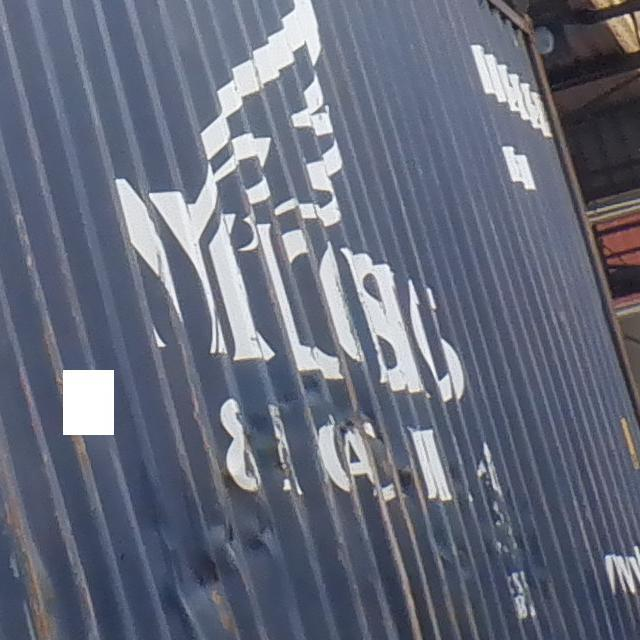dent: (132, 449, 296, 640)
